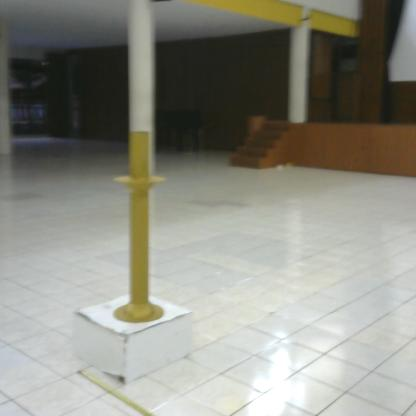pole: (109, 126, 172, 330)
